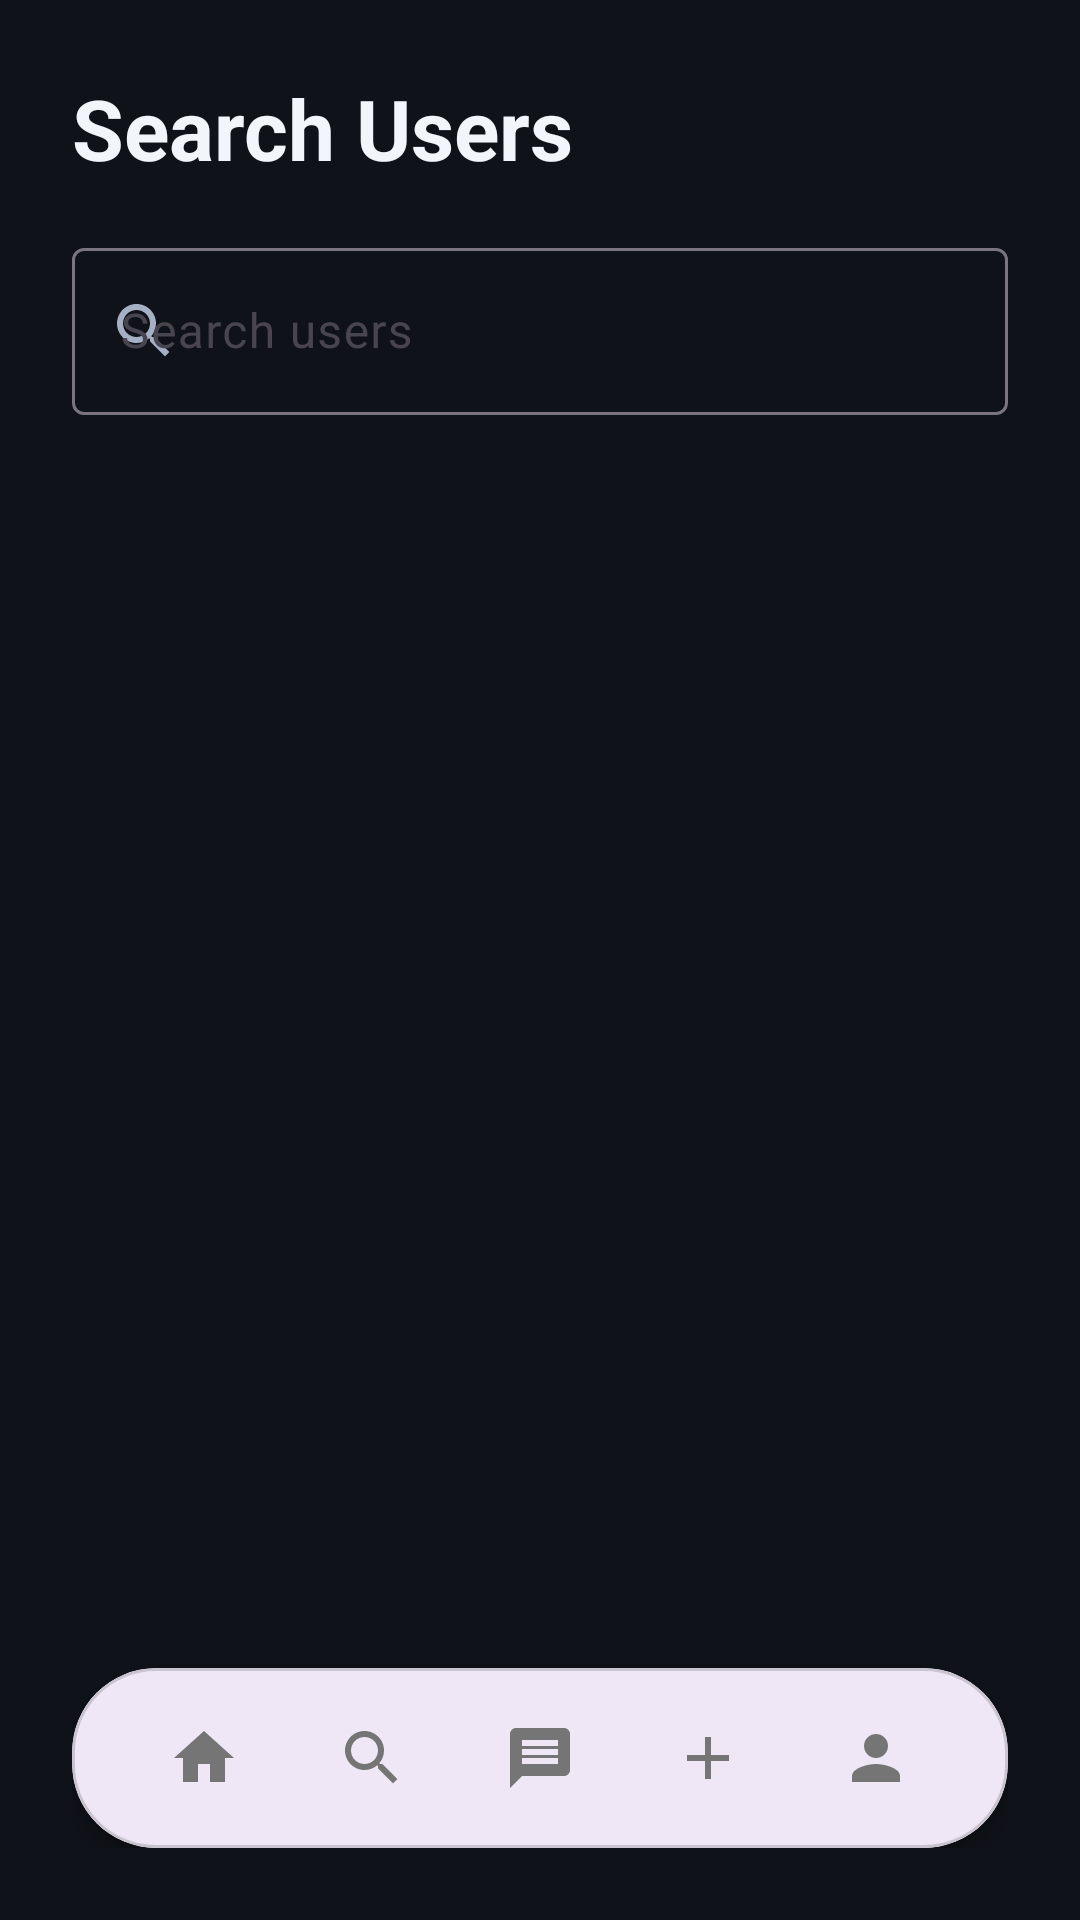

Named icons in this screenshot (1080 x 1920) and their centers, point (x, y):
Create post: point (708, 1758)
Home: point (204, 1756)
Messages: point (540, 1758)
Open profile: point (876, 1758)
Search: point (371, 1757)
